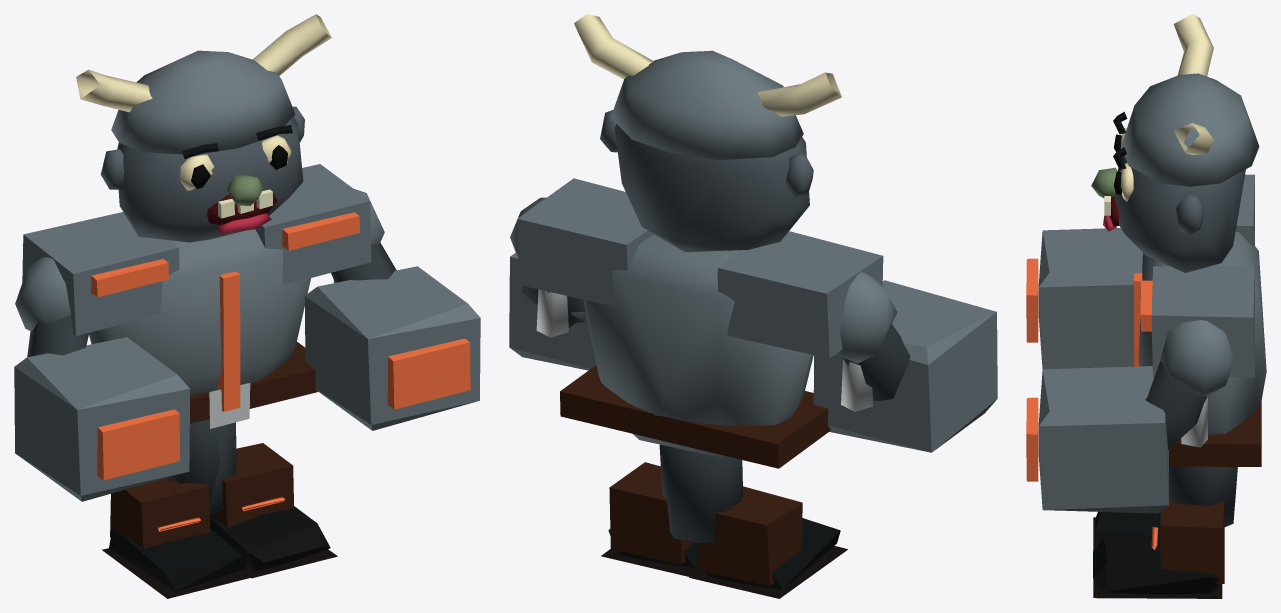
The model's file is titan-lod.glb.
3 renders of one model, left to right at view 1: azimuth 30°, elevation 25°; view 2: azimuth 150°, elevation 25°; view 3: azimuth 270°, elevation 25°, orthographic. The views are drawn at different scales.
Parts seen in each view (by area): view 1: Arms, Head, Body, LegL, LegR; view 2: Arms, Body, Head, LegL, LegR; view 3: Arms, Head, LegR, Body, LegL.
Part boxes in pixels (x1,y1,x2,y2): Arms: [14, 164, 480, 501]; Head: [76, 14, 331, 242]; Body: [89, 229, 317, 428]; LegL: [102, 422, 253, 598]; LegR: [168, 419, 337, 578]; Arms: [509, 178, 997, 452]; Body: [560, 234, 830, 468]; Head: [574, 14, 841, 252]; LegL: [659, 445, 847, 598]; LegR: [601, 444, 741, 577]; Arms: [1026, 174, 1254, 513]; Head: [1091, 14, 1259, 272]; LegR: [1093, 466, 1233, 598]; Body: [1134, 232, 1266, 466]; LegL: [1093, 466, 1237, 550].
Size of the model in its own units: 1.05 by 1.26 by 0.5554.
Materials: 1 (1 with a texture image).
